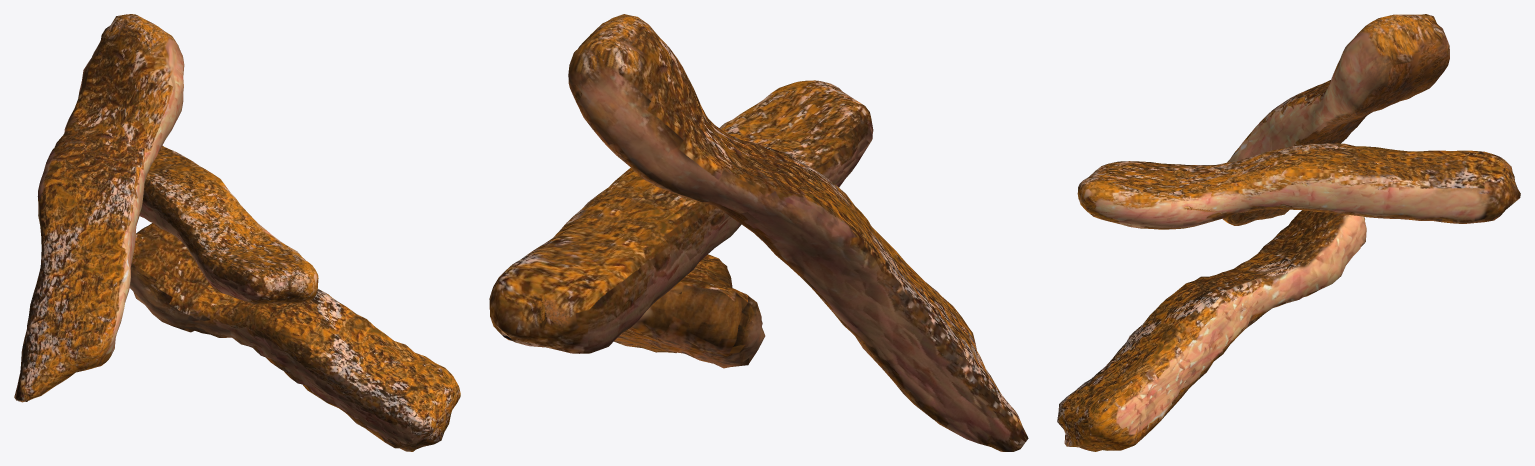
Rendered from chicken_chop_3x.glb.
3 renders of one model, left to right at view 1: azimuth 30°, elevation 25°; view 2: azimuth 150°, elevation 25°; view 3: azimuth 270°, elevation 25°, orthographic. The views are drawn at different scales.
Visible parts, largest first — view 1: chicken_chop_3piece_output; view 2: chicken_chop_3piece_output; view 3: chicken_chop_3piece_output.
Part boxes in pixels (<box>): chicken_chop_3piece_output: <box>14,14,460,451</box>; chicken_chop_3piece_output: <box>489,14,1028,451</box>; chicken_chop_3piece_output: <box>1057,14,1520,451</box>.
Size of the model in its own units: 1.03 by 0.9222 by 1.05.
1 material, 1 textured.
